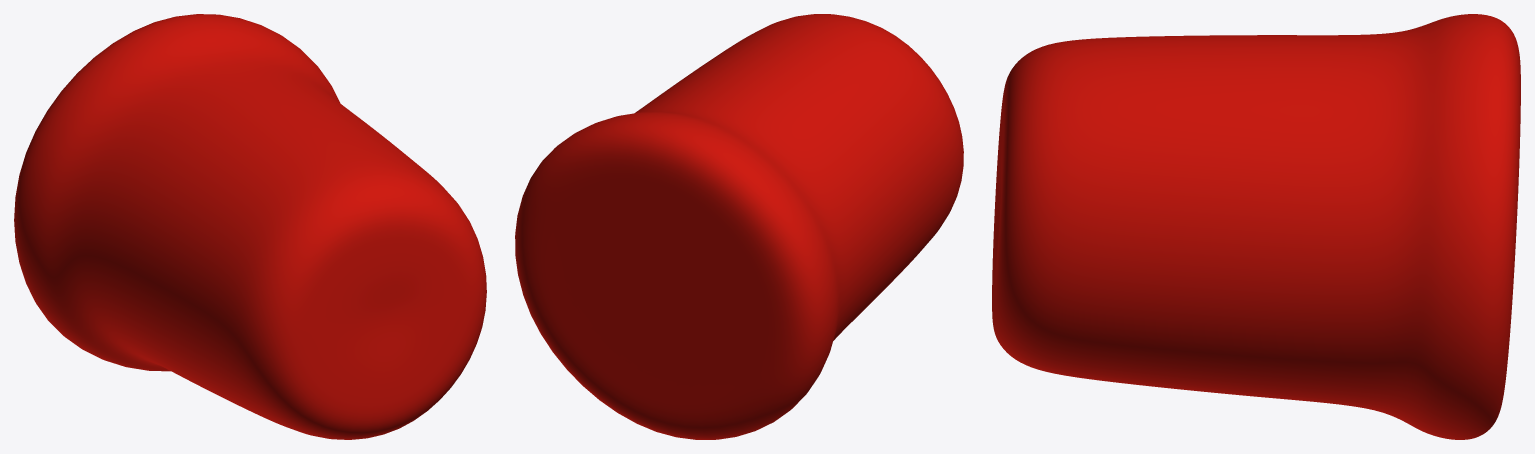
3 views of the same model, side by side, from view 1: azimuth 30°, elevation 25°; view 2: azimuth 150°, elevation 25°; view 3: azimuth 270°, elevation 25° (orthographic). The views are drawn at different scales.
Bounding box in the file's own units: 0.037 × 0.0365 × 0.045.
